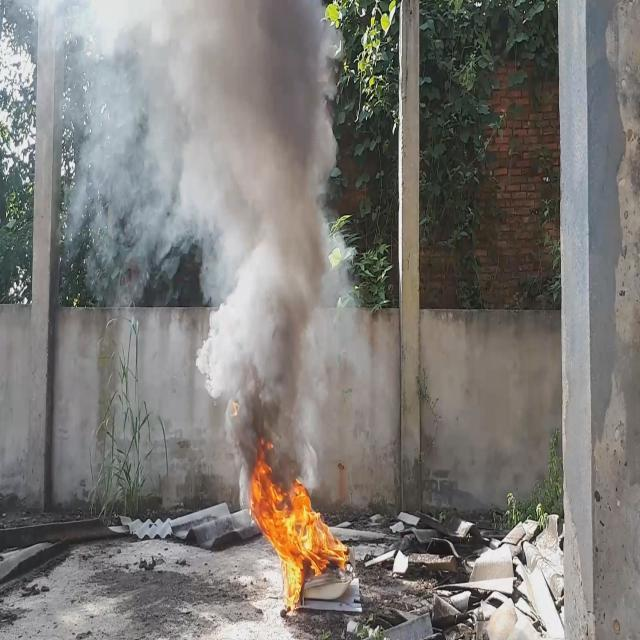Fire: (252, 437, 351, 619)
Smoke: (45, 0, 342, 494)
